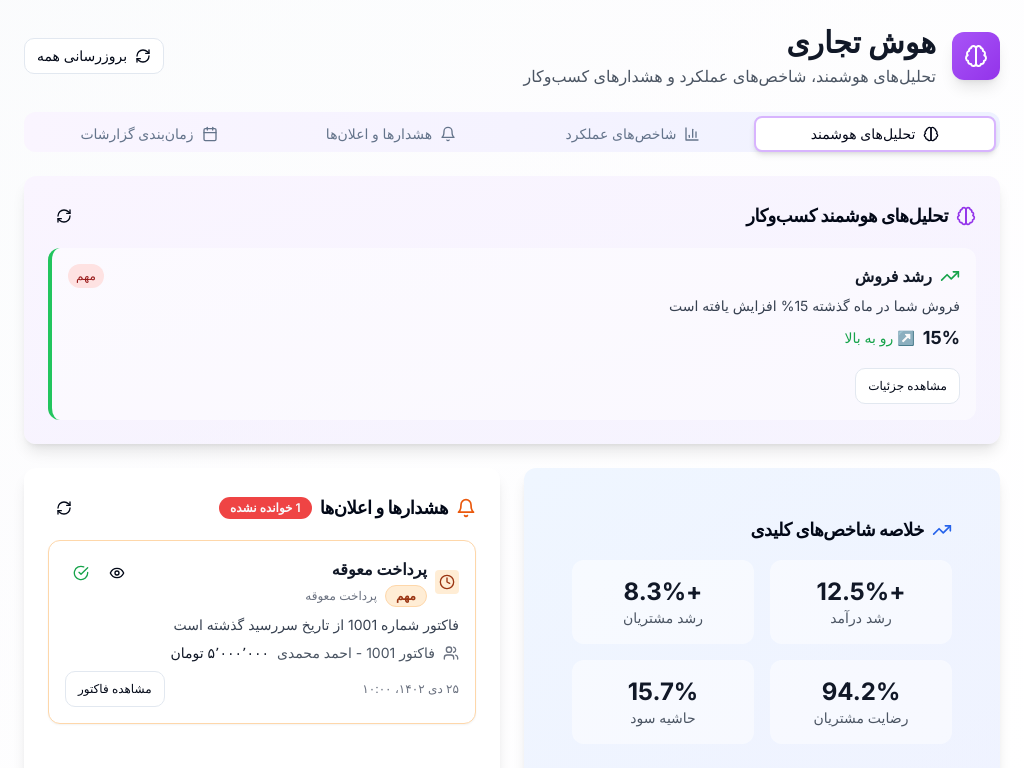
it: BusinessIntelligence Page › maintains tab state when switching between tabs
Expected: the heading "رشد فروش" is shown, 855,264 -> 932,288
Switch to KPIs tab
Click the button "شاخص‌های عملکرد": point(633, 134) 512,118 -> 754,150
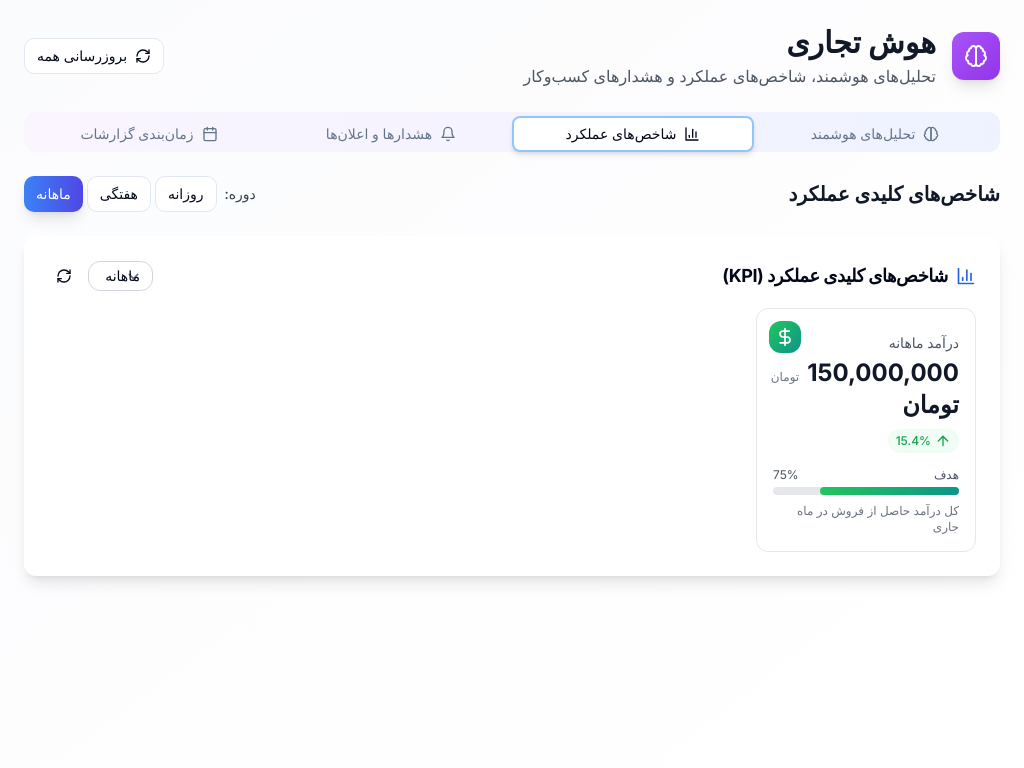
Expected: the heading "درآمد ماهانه" is shown, 889,334 -> 959,351
Switch back to insights tab
Click the button "تحلیل‌های هوشمند": point(875, 134) 754,118 -> 996,150
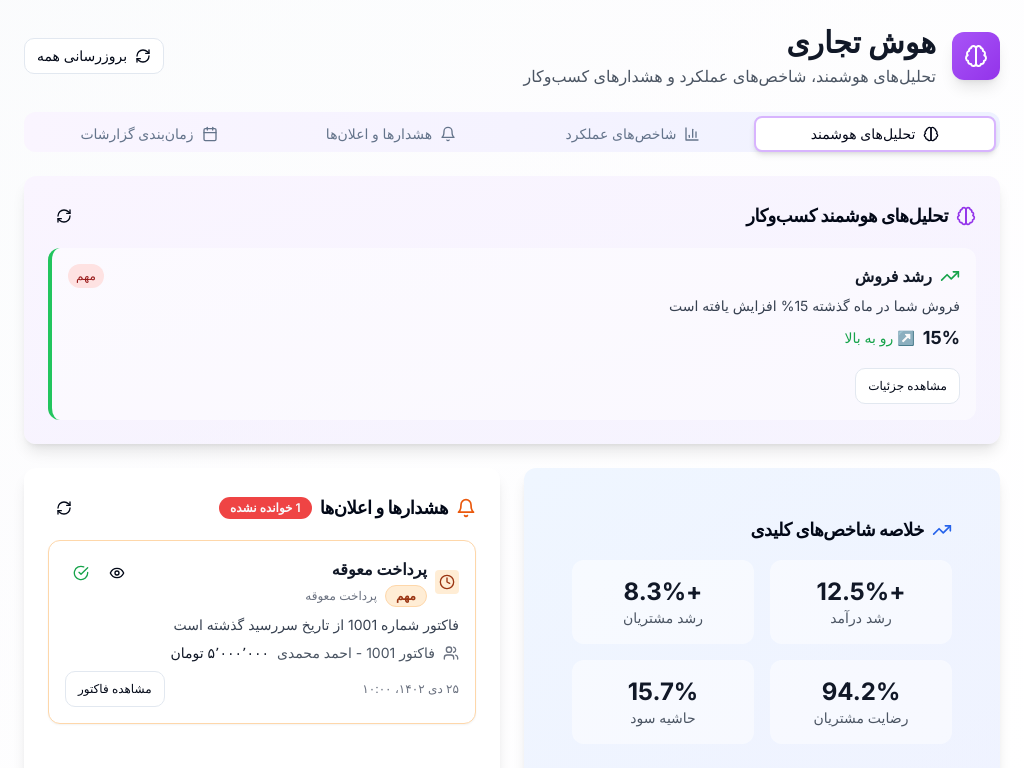
Expected: the heading "رشد فروش" is shown, 855,264 -> 932,288
